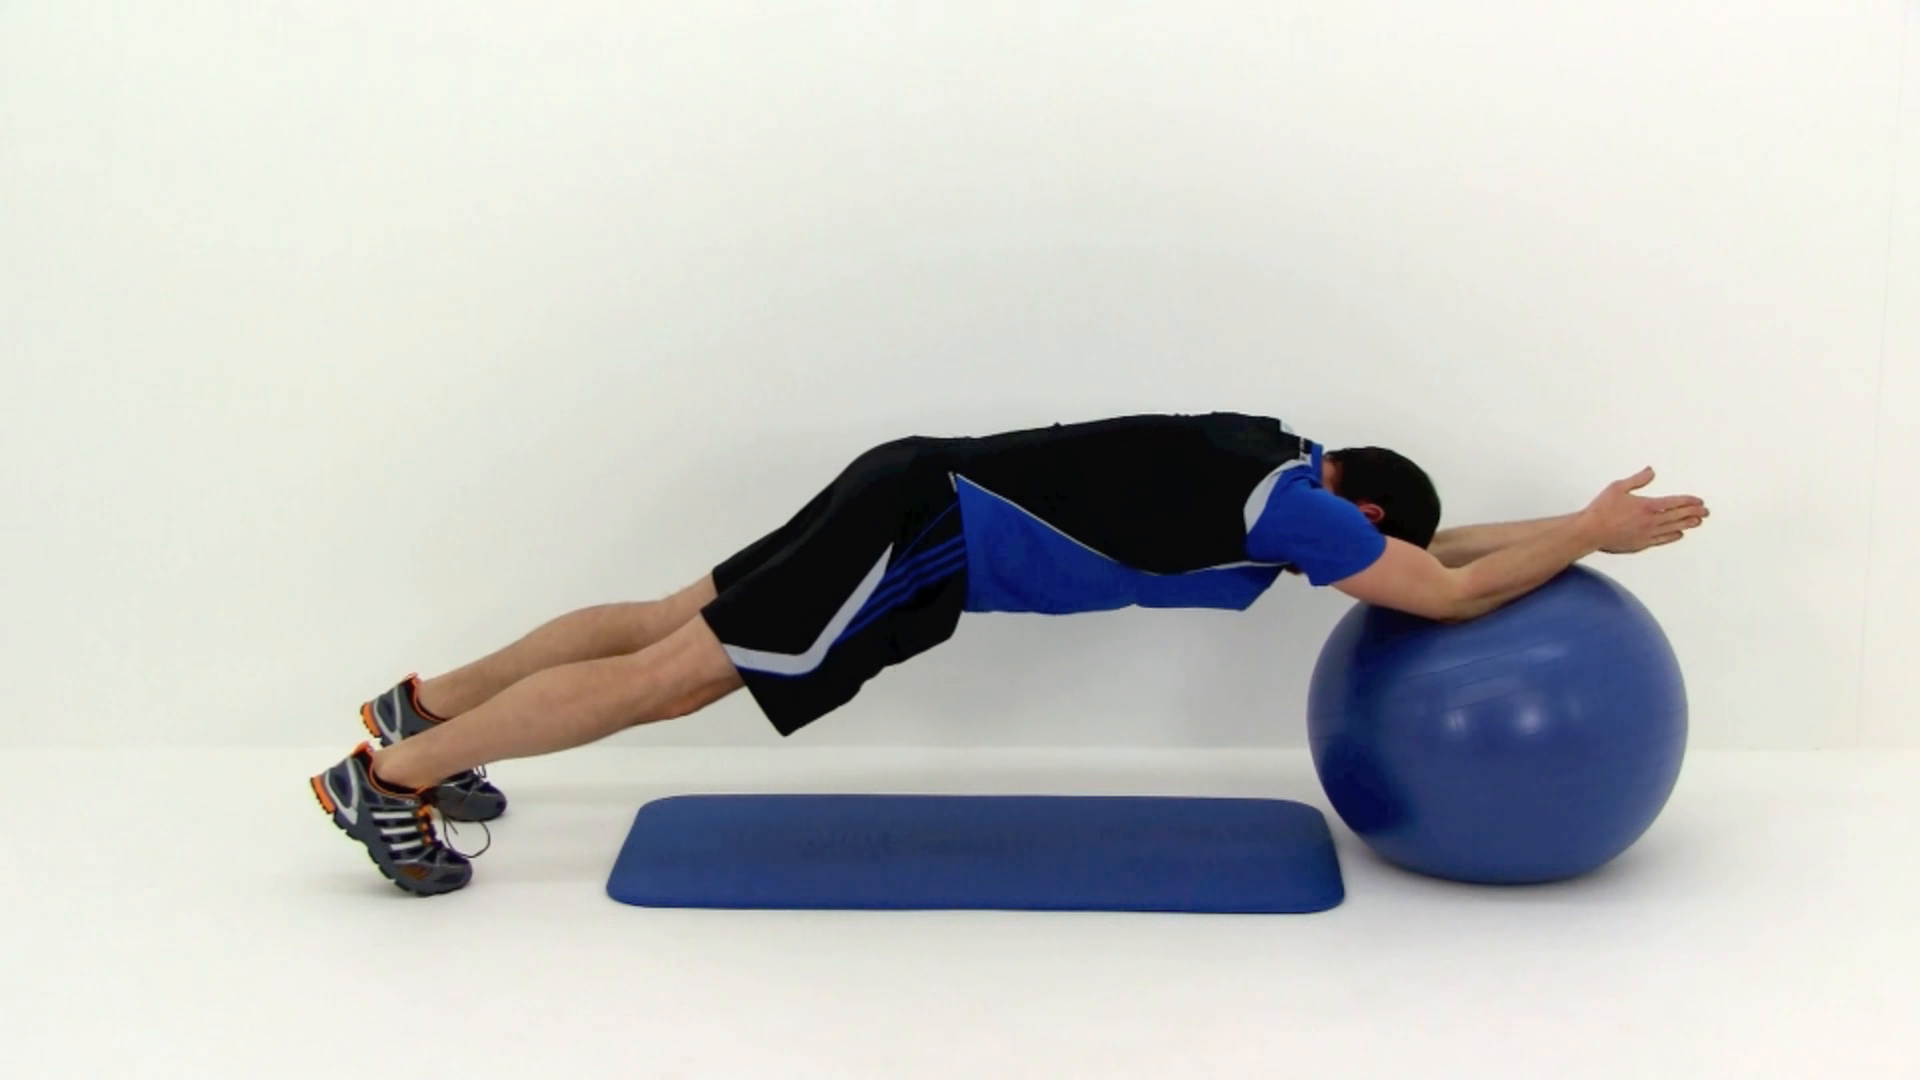yogaball: (1298, 555, 1700, 897)
